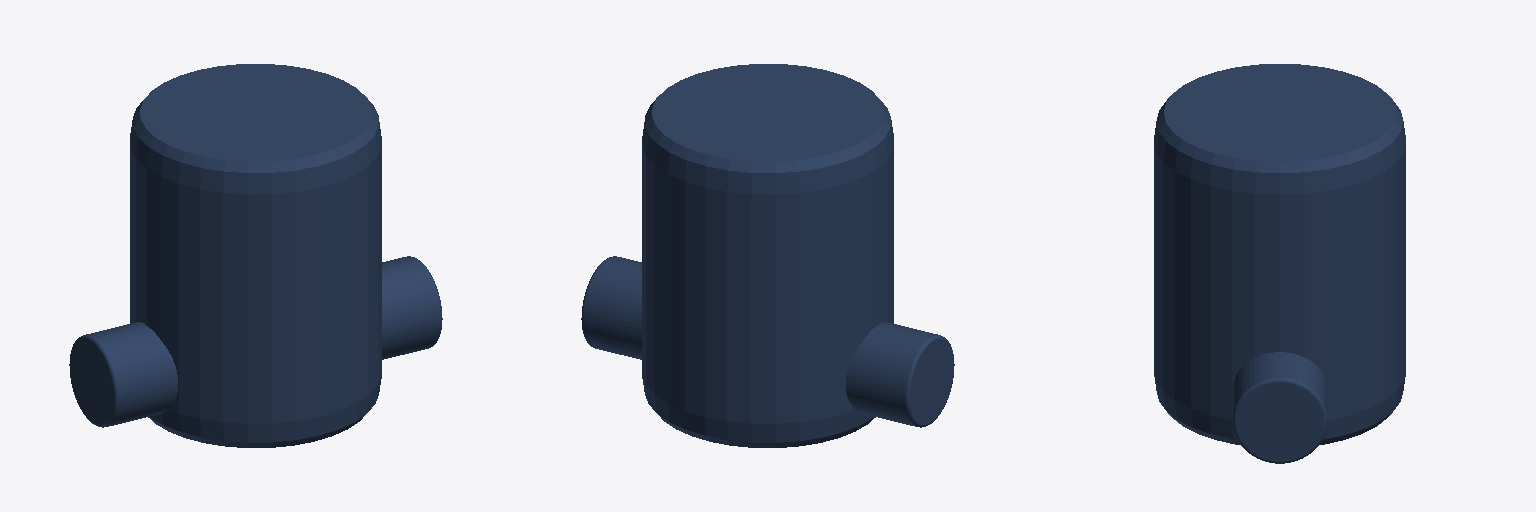
Rendered from Reservatory.obj.
3 views of the same model, side by side, from view 1: azimuth 30°, elevation 25°; view 2: azimuth 150°, elevation 25°; view 3: azimuth 270°, elevation 25° (orthographic).
Parts seen in each view (by area): view 1: 002_Cylinder, 000_Cylinder_2, 001_Cylinder_1; view 2: 002_Cylinder, 000_Cylinder_2, 001_Cylinder_1; view 3: 002_Cylinder, 001_Cylinder_1.
Part boxes in pixels (bbox=[...]): 002_Cylinder: bbox=[130, 64, 381, 447]; 000_Cylinder_2: bbox=[69, 322, 177, 427]; 001_Cylinder_1: bbox=[382, 256, 442, 359]; 002_Cylinder: bbox=[642, 64, 893, 447]; 000_Cylinder_2: bbox=[846, 322, 954, 427]; 001_Cylinder_1: bbox=[581, 256, 641, 359]; 002_Cylinder: bbox=[1154, 64, 1405, 444]; 001_Cylinder_1: bbox=[1233, 352, 1326, 463].
Bounding box in the file's own units: 120 × 100 × 80.